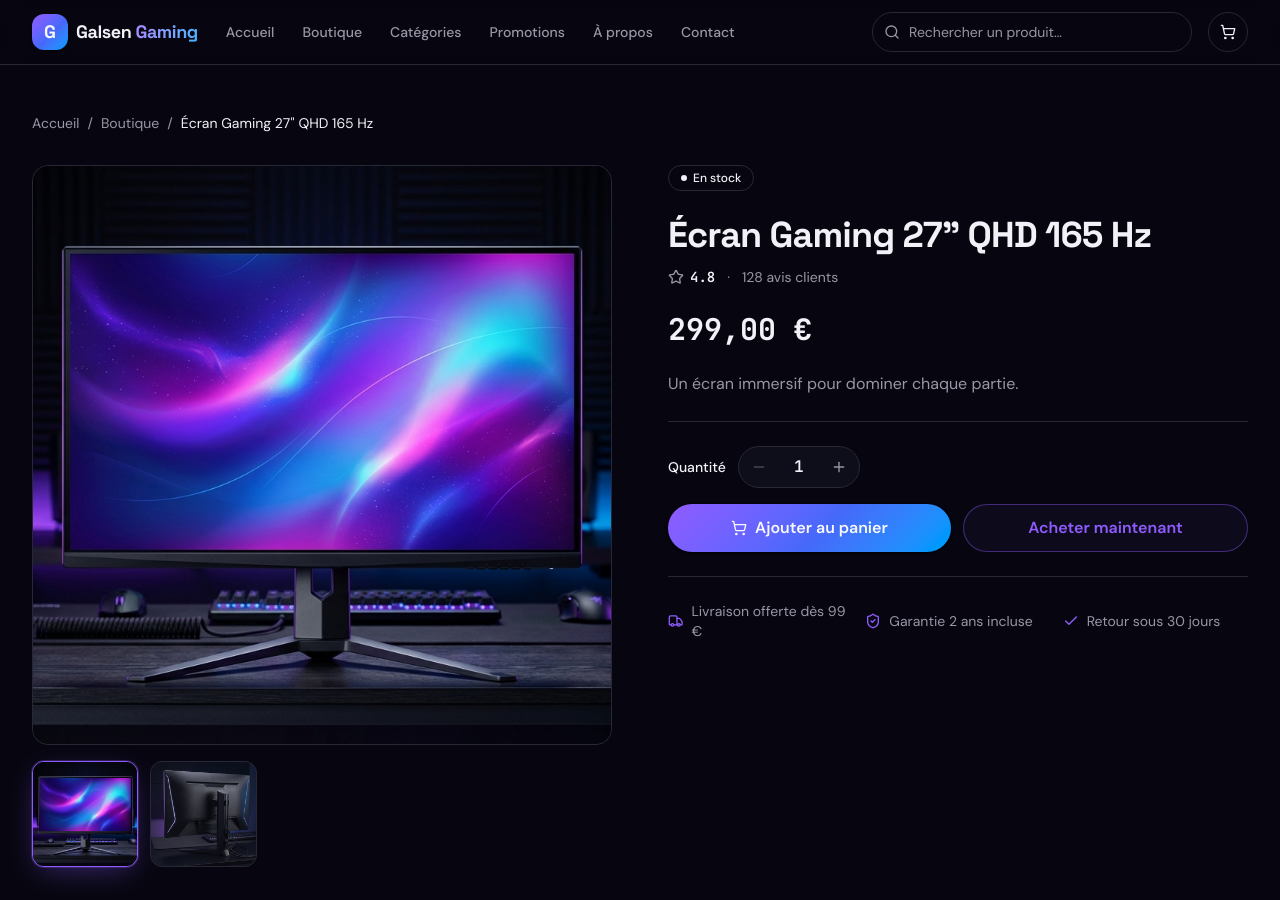
Scenario: ProductPage › adds the chosen quantity to the cart
Expected: the heading "Écran Gaming 27\" QHD 165 Hz" is shown, [668,212,1151,258]
What coordinates should you click on to do the following:
click the button named "Augmenter la quantité"
I would click on:
 (839, 467)
Its box is [819,447,859,487].
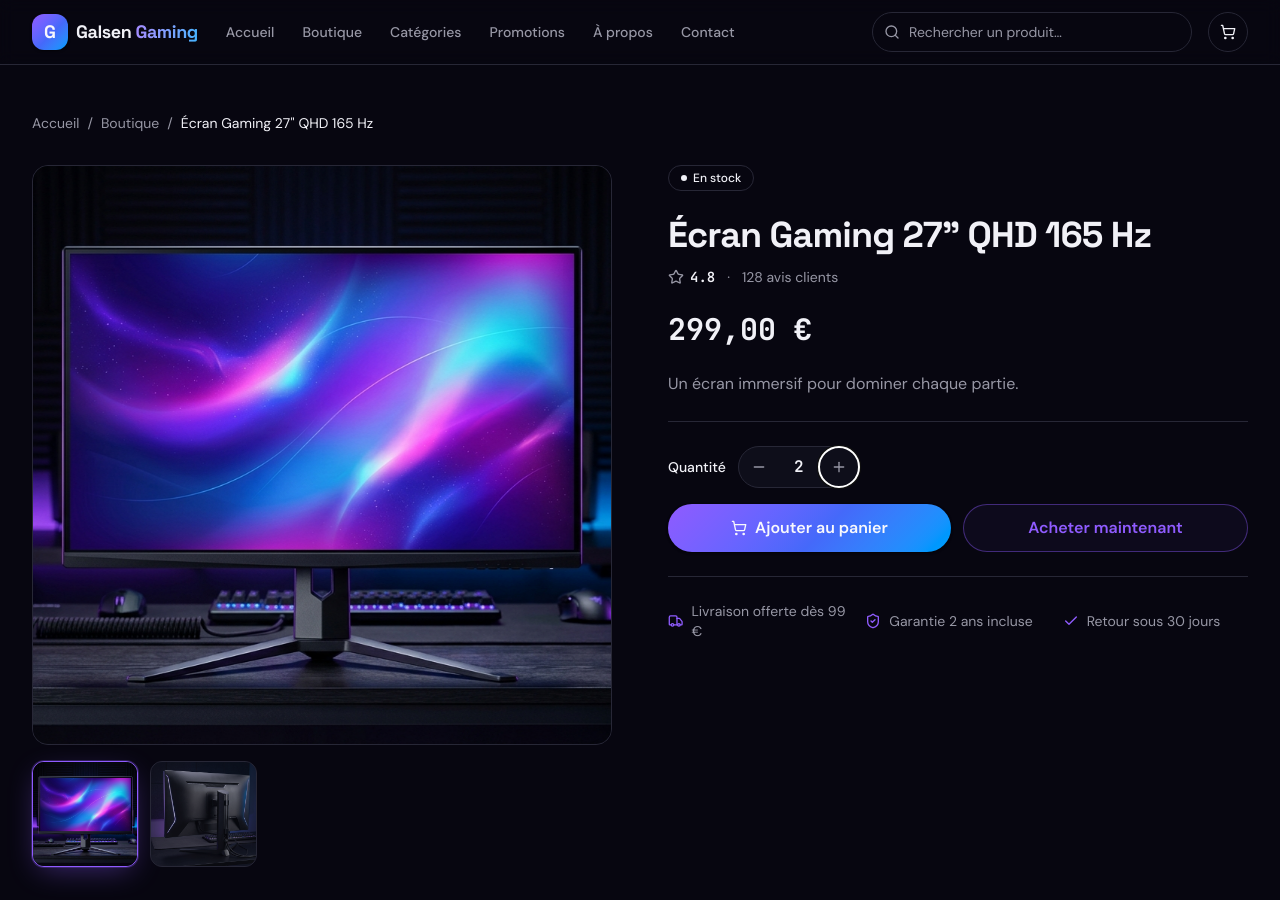
Expected: the text "2" is shown, [794,456,804,477]
What coordinates should you click on to do the following:
click the button "Ajouter au panier"
I would click on:
 (810, 528)
Its box is [668,504,951,552].
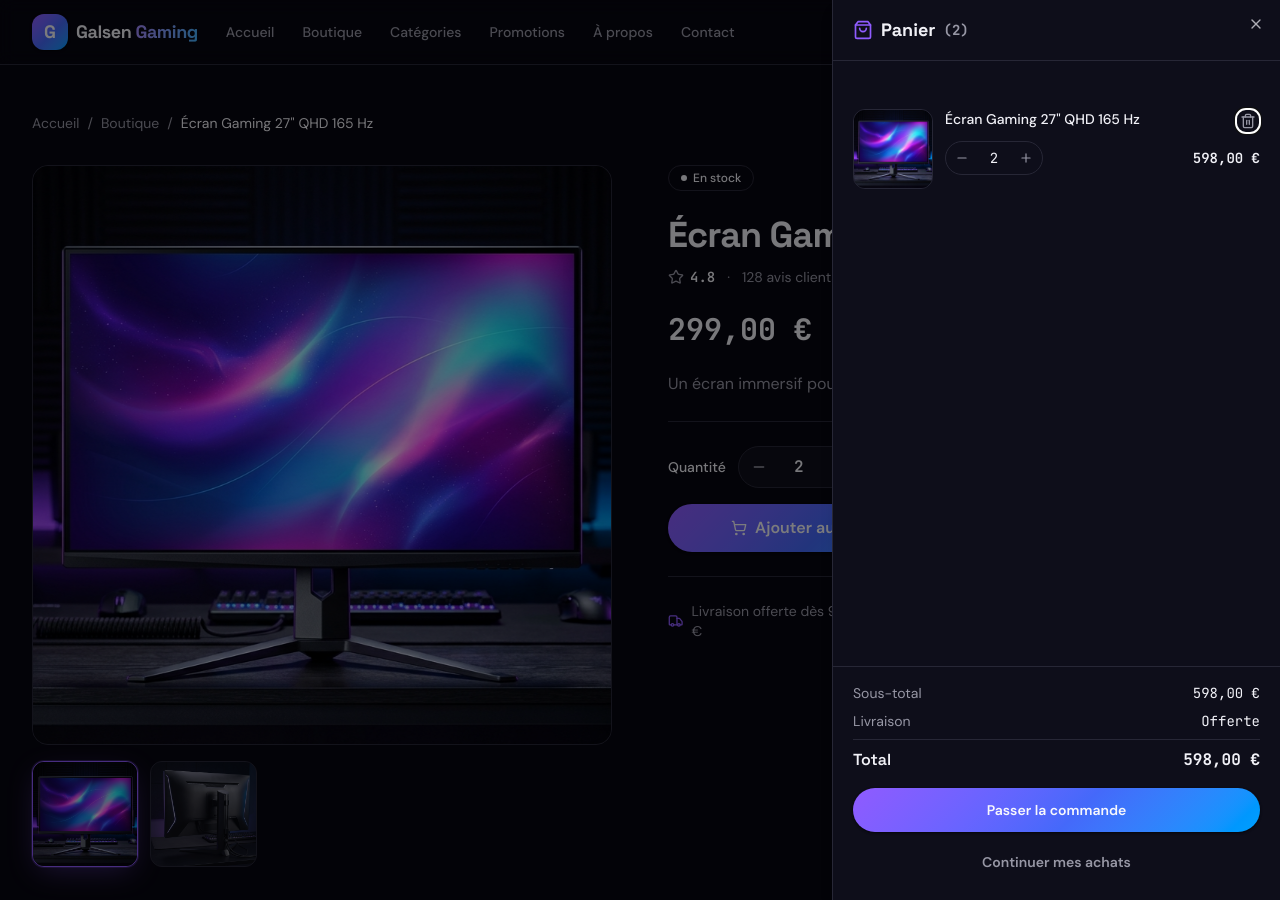
Expected: the link "Écran Gaming 27\" QHD 165 Hz" is shown, [945,109,1140,129]
Expected: the dialog is shown, [832,0,1279,899]
